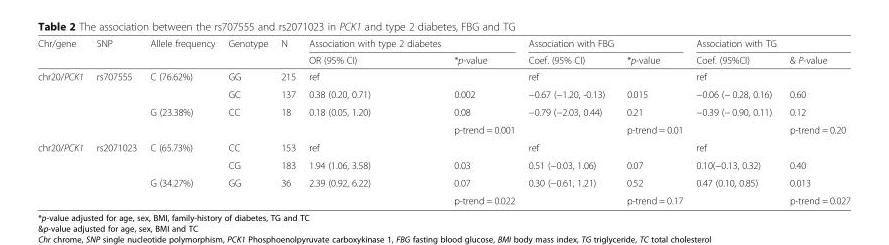table: (38, 37, 850, 205)
table column: (302, 37, 447, 205), (522, 37, 620, 205), (689, 37, 783, 205), (143, 37, 222, 205), (447, 37, 522, 205), (620, 37, 689, 205), (783, 37, 850, 205), (90, 37, 143, 205), (38, 37, 90, 205), (222, 37, 274, 205), (274, 37, 302, 205)
table column header: (38, 37, 850, 67)
table row: (38, 84, 850, 102), (38, 102, 850, 120), (38, 120, 850, 138), (38, 155, 850, 173), (38, 173, 850, 191), (38, 67, 850, 84), (38, 138, 850, 155), (38, 51, 850, 67), (38, 37, 850, 51), (38, 191, 850, 205)
table spanning cell: (302, 37, 447, 67), (38, 67, 90, 138), (38, 138, 90, 205), (522, 37, 620, 67), (689, 37, 783, 67), (143, 37, 222, 67), (447, 37, 522, 67), (620, 37, 689, 67), (783, 37, 850, 67), (90, 37, 143, 67), (38, 37, 90, 67), (222, 37, 274, 67), (274, 37, 302, 67)
